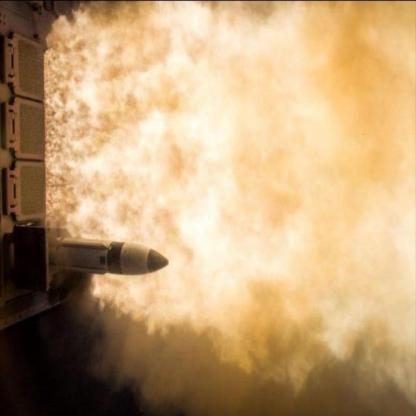MIL_TBM: (45, 236, 171, 275)
